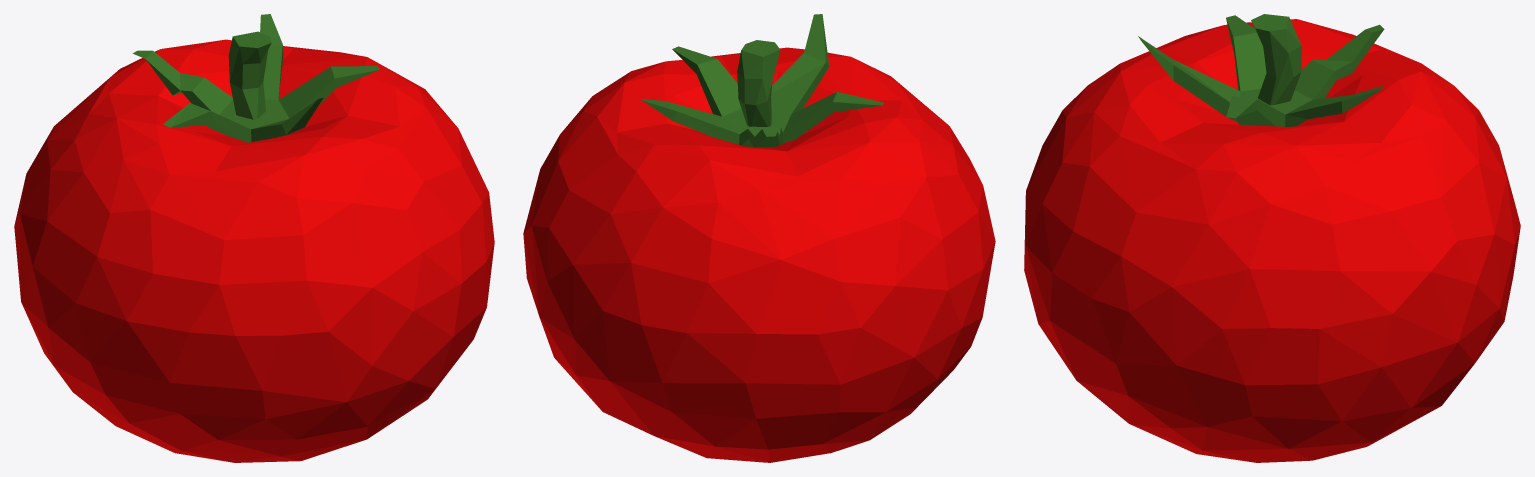
The model's file is Tomato.fbx.
3 renders of one model, left to right at view 1: azimuth 30°, elevation 25°; view 2: azimuth 150°, elevation 25°; view 3: azimuth 270°, elevation 25°, orthographic. The views are drawn at different scales.
Visible parts, largest first — view 1: Tomato; view 2: Tomato; view 3: Tomato.
Boxes of the visible parts, x1,y1,x2,y2 form: Tomato: (14,14,494,462); Tomato: (523,14,995,462); Tomato: (1024,14,1520,462).
Size of the model in its own units: 201 by 178 by 200.
